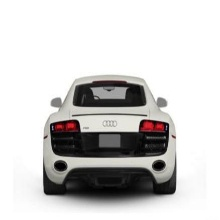no damage: (41, 74, 178, 196)
